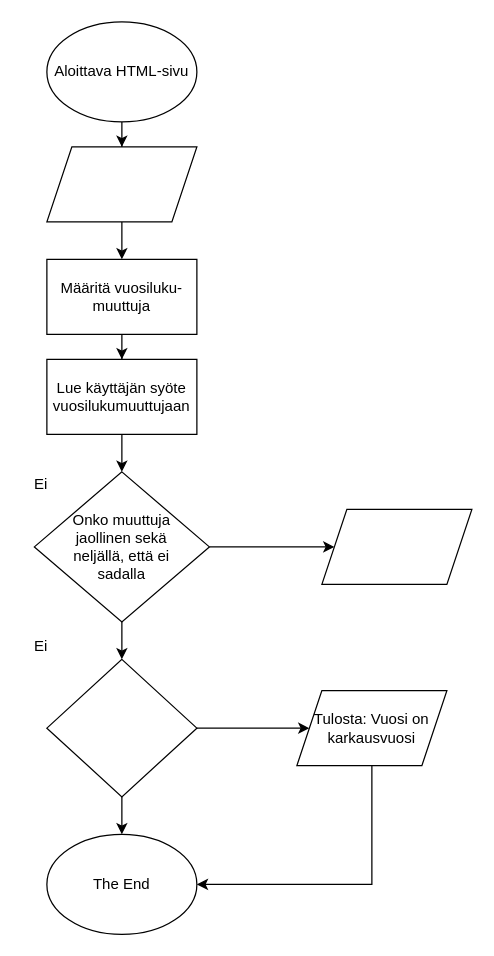
The diagram is 494 pixels wide and 956 high, and some of its shapes have lost their labels. Here are the shapes that lost their labels. From the top down, the centre of each, then its label:
At (x=121, y=184): "Pyydä käyttäjältä vuosilukua".
At (x=396, y=546): "Tulosta:Vuosi on karkausvuosi".
At (x=121, y=727): "Onko muuttuja jaollinen neljälläsadalla".
